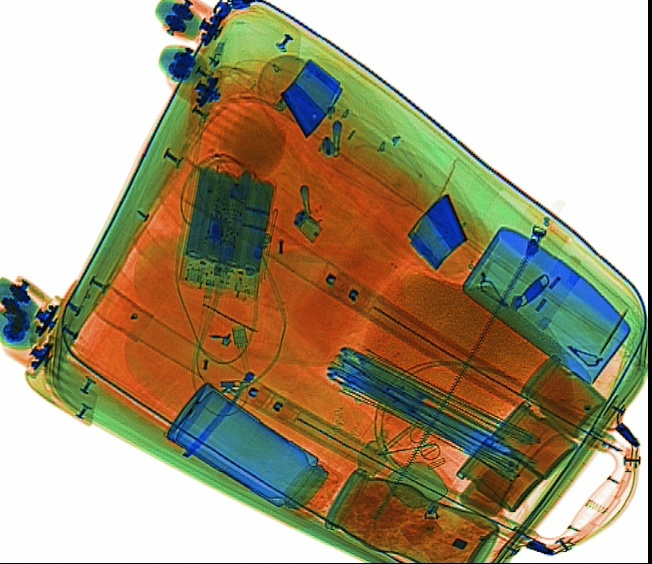powerbank: (173, 160, 280, 304)
